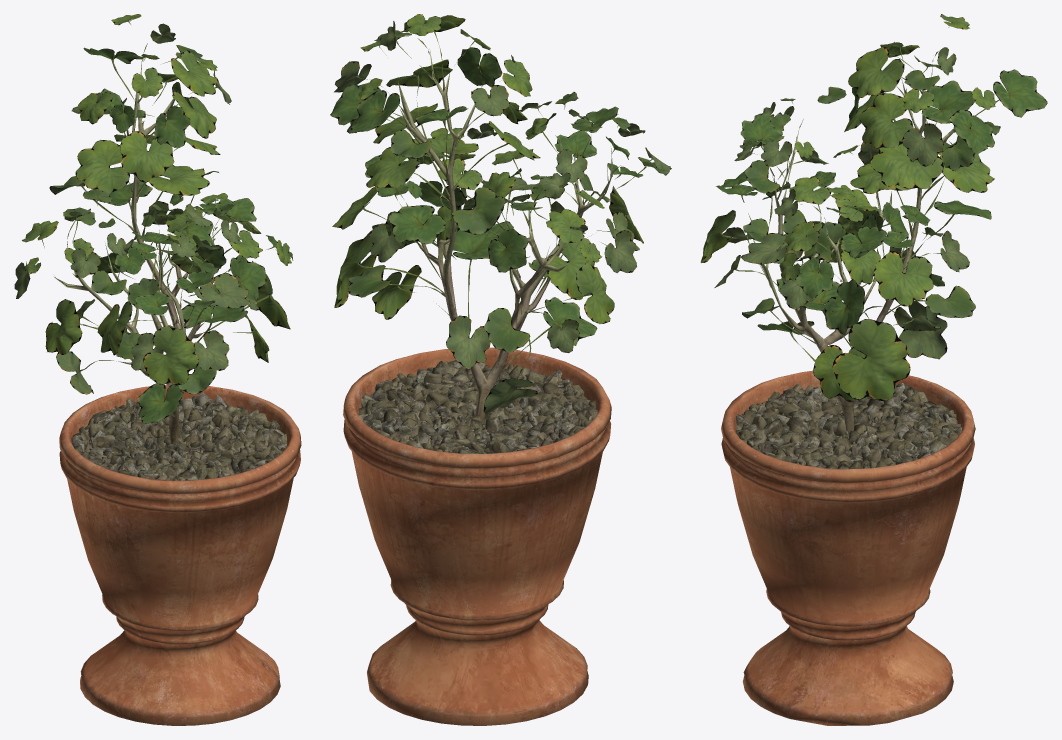
Rendered from potted_plant_01.glb.
The picture shows the model from 3 angles, left to right: view 1: azimuth 30°, elevation 25°; view 2: azimuth 150°, elevation 25°; view 3: azimuth 270°, elevation 25°; orthographic projection. The views are drawn at different scales.
Parts seen in each view (by area): view 1: potted_plant_01_stem, potted_plant_01_leaves; view 2: potted_plant_01_stem, potted_plant_01_leaves; view 3: potted_plant_01_stem, potted_plant_01_leaves.
Boxes of the visible parts, left/top/right/bottom form: potted_plant_01_stem: left=54, top=58, right=301, bottom=725; potted_plant_01_leaves: left=14, top=14, right=293, bottom=423; potted_plant_01_stem: left=343, top=48, right=612, bottom=725; potted_plant_01_leaves: left=330, top=14, right=671, bottom=414; potted_plant_01_stem: left=721, top=60, right=975, bottom=725; potted_plant_01_leaves: left=700, top=14, right=1047, bottom=401.
Size of the model in its own units: 0.5866 by 1.34 by 0.6336.
2 materials, 2 textured.
